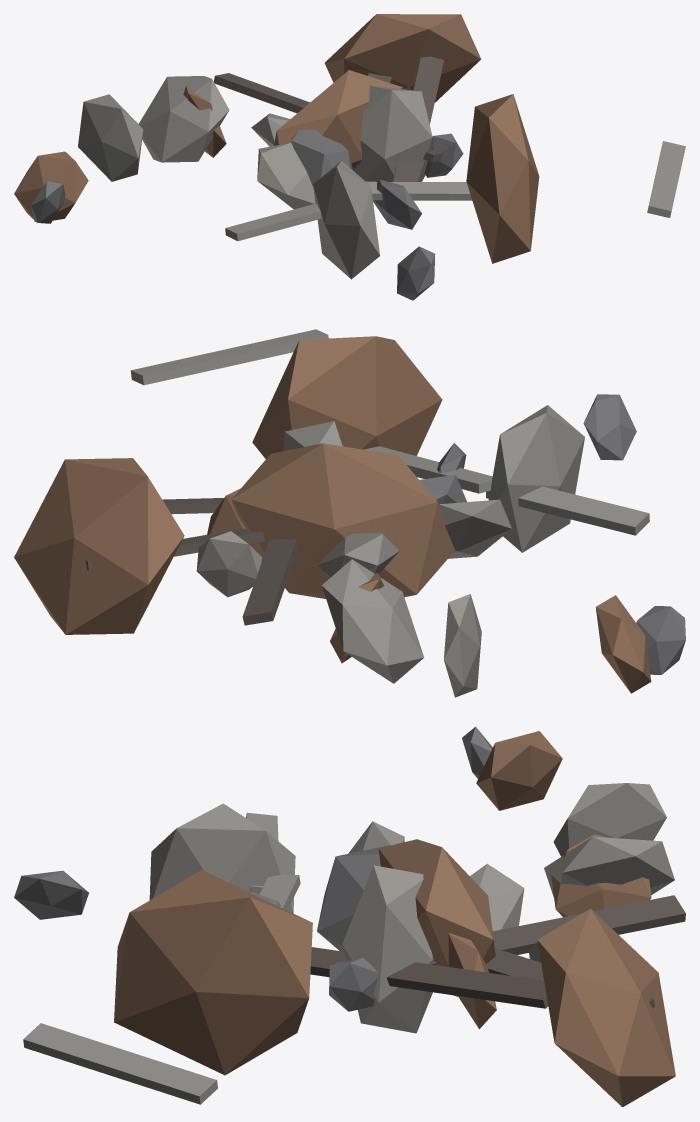
Rendered from v2_rubble_wood.glb.
3 views of the same model, one above another, from view 1: azimuth 30°, elevation 25°; view 2: azimuth 150°, elevation 25°; view 3: azimuth 270°, elevation 25° (orthographic). The views are drawn at different scales.
Parts seen in each view (by area): view 1: v2_rubble_wood; view 2: v2_rubble_wood; view 3: v2_rubble_wood.
Boxes of the visible parts, x1,y1,x2,y2 form: v2_rubble_wood: [14, 14, 685, 300]; v2_rubble_wood: [14, 329, 685, 697]; v2_rubble_wood: [14, 726, 685, 1107].
Size of the model in its own units: 4.04 by 0.9687 by 3.24.
